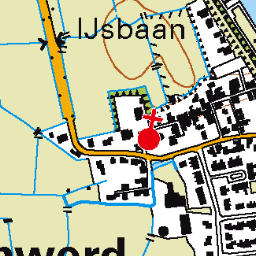church: (136, 107, 165, 154)
